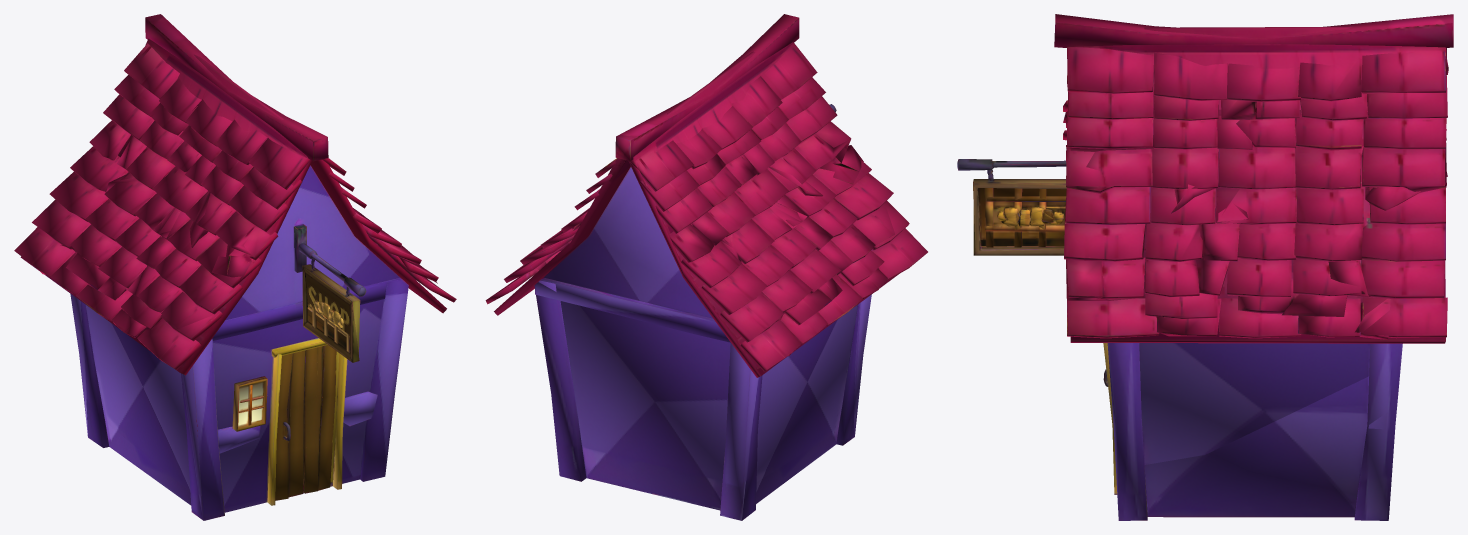
The model's file is shop_building.glb.
The picture shows the model from 3 angles, left to right: view 1: azimuth 30°, elevation 25°; view 2: azimuth 150°, elevation 25°; view 3: azimuth 270°, elevation 25°; orthographic projection. The views are drawn at different scales.
Visible parts, largest first — view 1: ShopBuilding_Mesh; view 2: ShopBuilding_Mesh; view 3: ShopBuilding_Mesh.
Boxes of the visible parts, left/top/right/bottom form: ShopBuilding_Mesh: left=14, top=14, right=456, bottom=520; ShopBuilding_Mesh: left=485, top=14, right=927, bottom=520; ShopBuilding_Mesh: left=957, top=14, right=1453, bottom=520.
Bounding box in the file's own units: 2.03 × 2.6 × 2.6.
Materials: 1 (1 with a texture image).
